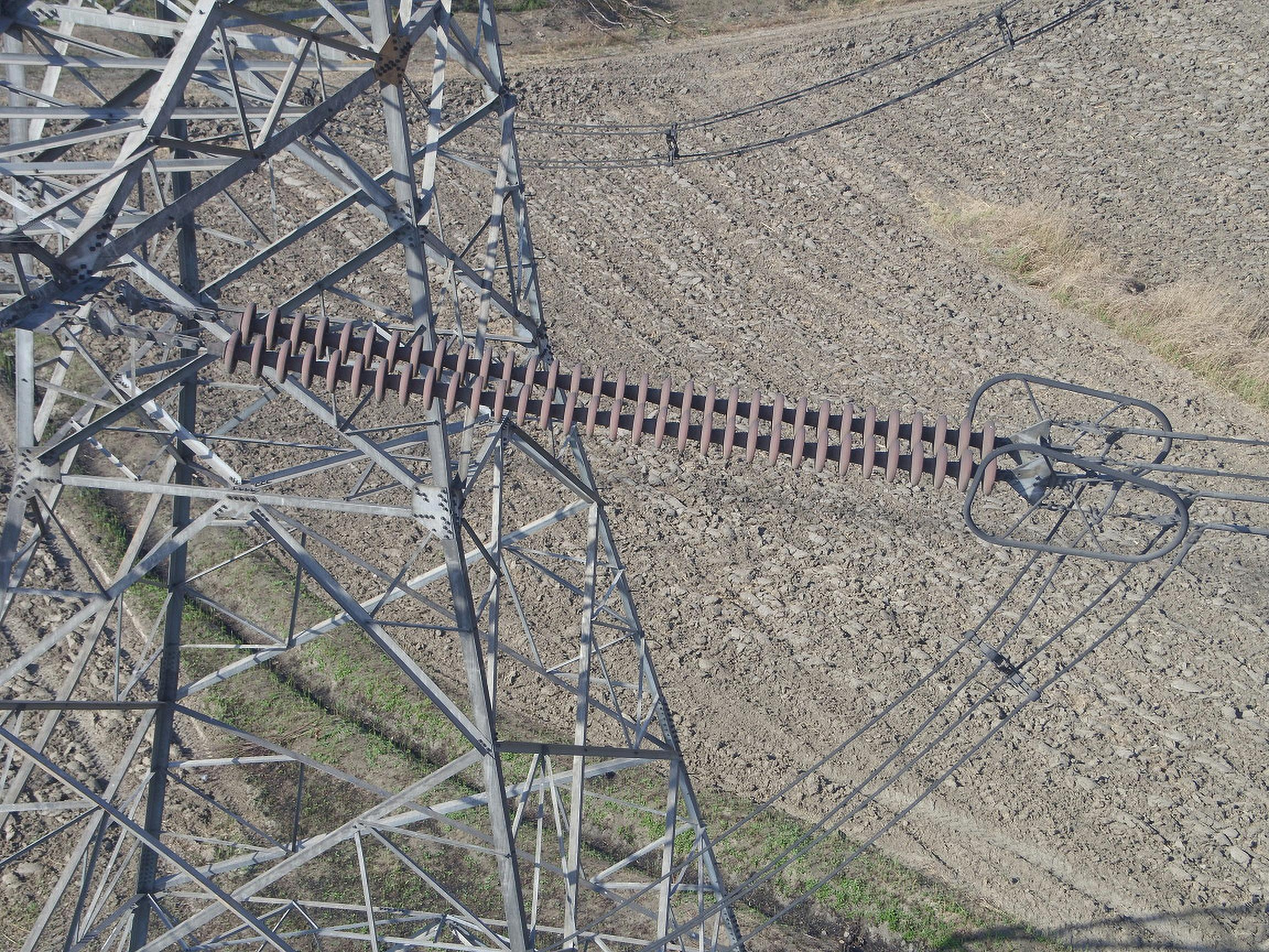insulator: (218, 298, 1008, 501)
